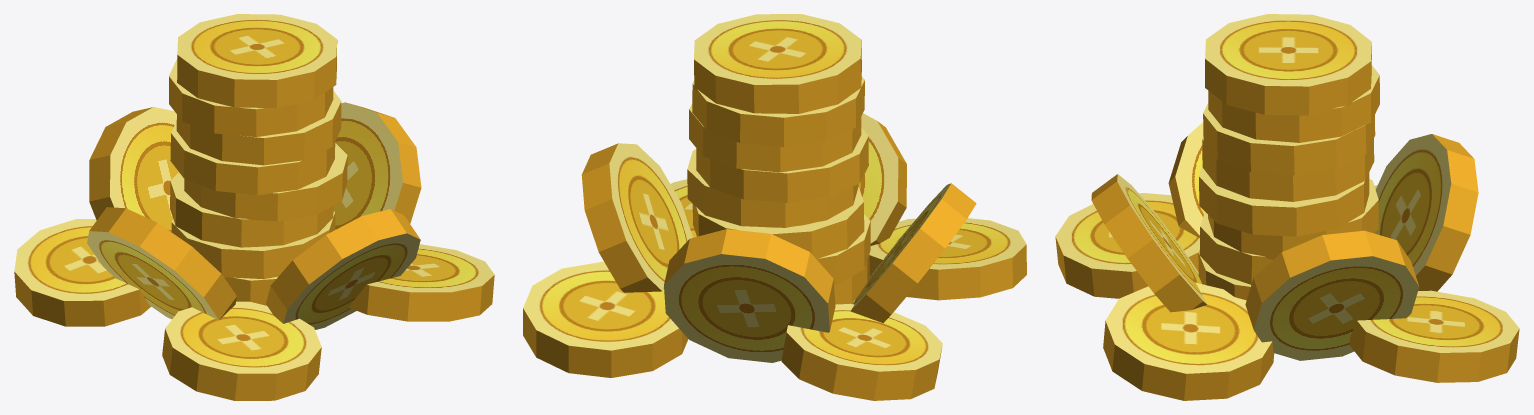
The picture shows the model from 3 angles, left to right: view 1: azimuth 30°, elevation 25°; view 2: azimuth 150°, elevation 25°; view 3: azimuth 270°, elevation 25°; orthographic projection. The views are drawn at different scales.
Visible parts, largest first — view 1: 금화; view 2: 금화; view 3: 금화.
Boxes of the visible parts, box(x1,y1,x2,y2) form: 금화: box(14, 14, 494, 400); 금화: box(523, 14, 1026, 400); 금화: box(1055, 14, 1519, 400).
Bounding box in the file's own units: 104 × 68.13 × 108.
Materials: 2 (2 with a texture image).
